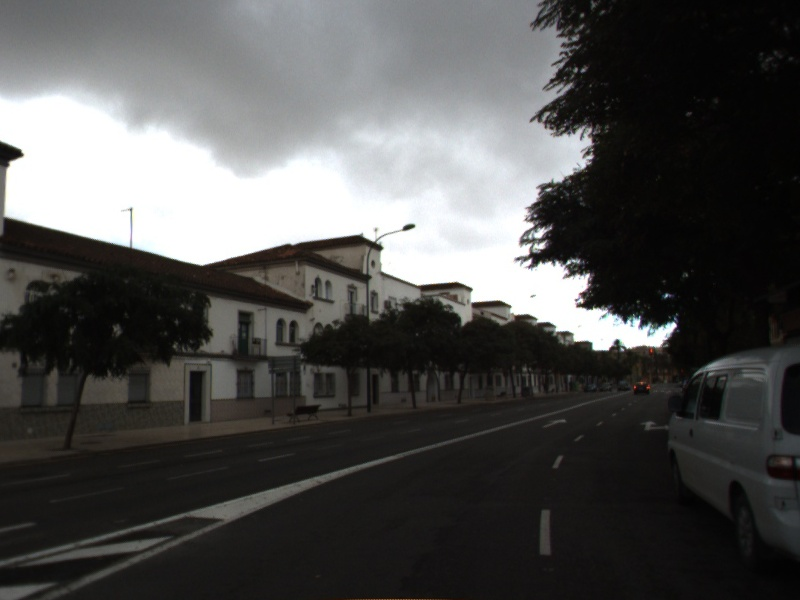STRAIGHT: (541, 417, 569, 429)
STRAIGHT_RIGHT: (639, 419, 671, 432)
